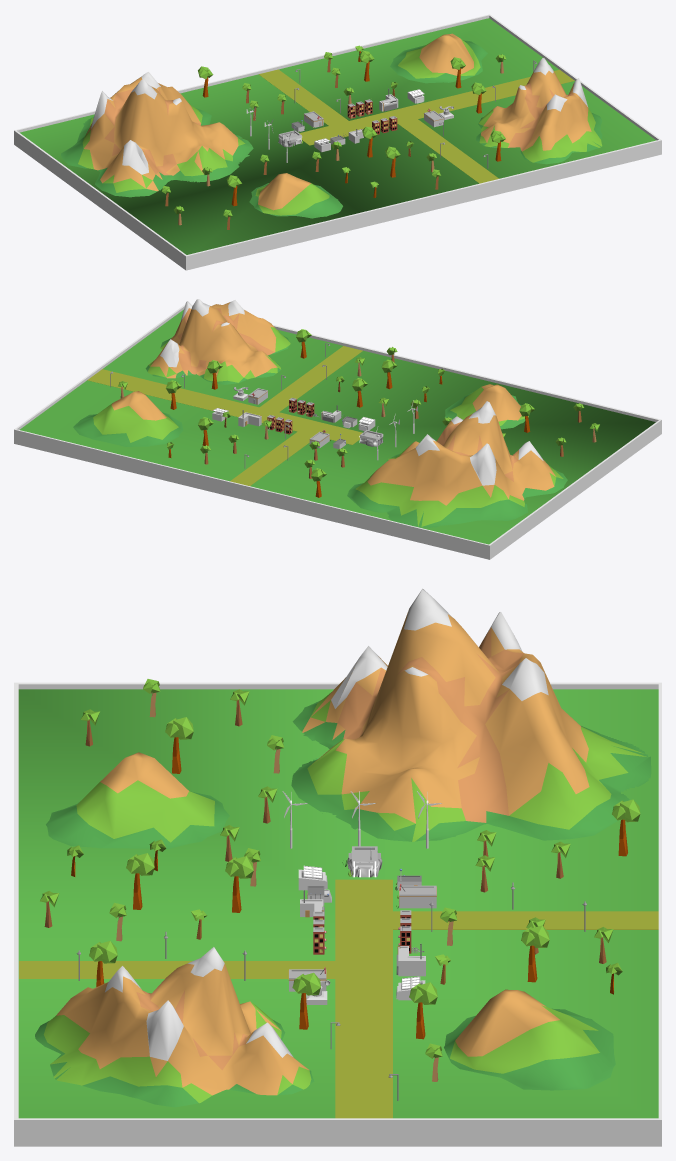
File: allold.glb
3 renders of one model, top to bottom at view 1: azimuth 30°, elevation 25°; view 2: azimuth 150°, elevation 25°; view 3: azimuth 270°, elevation 25°, orthographic. The views are drawn at different scales.
Visible parts, largest first — view 1: Основа, Декор.003, Дорога, Декор.004, Декор.001, Декор.002, Декор; view 2: Основа, Декор.003, Дорога, Декор.004, Декор.001, Декор.002, Декор; view 3: Основа, Декор.003, Дорога, Декор.004, Декор.001, Декор.002, Декор, Подстанция, Больница 2.
Boxes of the visible parts, x1=… form: Основа: x1=14, y1=14, x2=661, y2=270; Декор.003: x1=61, y1=33, x2=602, y2=218; Дорога: x1=259, y1=69, x2=574, y2=183; Декор.004: x1=162, y1=126, x2=440, y2=229; Декор.001: x1=324, y1=45, x2=506, y2=104; Декор.002: x1=198, y1=66, x2=286, y2=120; Декор: x1=471, y1=82, x2=505, y2=161; Основа: x1=14, y1=304, x2=661, y2=559; Декор.003: x1=73, y1=299, x2=567, y2=527; Дорога: x1=87, y1=346, x2=362, y2=485; Декор.004: x1=336, y1=347, x2=599, y2=456; Декор.001: x1=118, y1=380, x2=272, y2=464; Декор.002: x1=304, y1=441, x2=347, y2=497; Декор: x1=207, y1=329, x2=311, y2=389; Основа: x1=14, y1=682, x2=661, y2=1146; Декор.003: x1=35, y1=588, x2=651, y2=1107; Дорога: x1=19, y1=879, x2=658, y2=1118; Декор.004: x1=40, y1=679, x2=284, y2=941; Декор.001: x1=409, y1=907, x2=622, y2=1081; Декор.002: x1=475, y1=799, x2=640, y2=892; Декор: x1=89, y1=940, x2=320, y2=1029; Подстанция: x1=347, y1=846, x2=382, y2=877; Больница 2: x1=399, y1=884, x2=436, y2=908.
Bounding box in the file's own units: 380 × 73.24 × 238.
